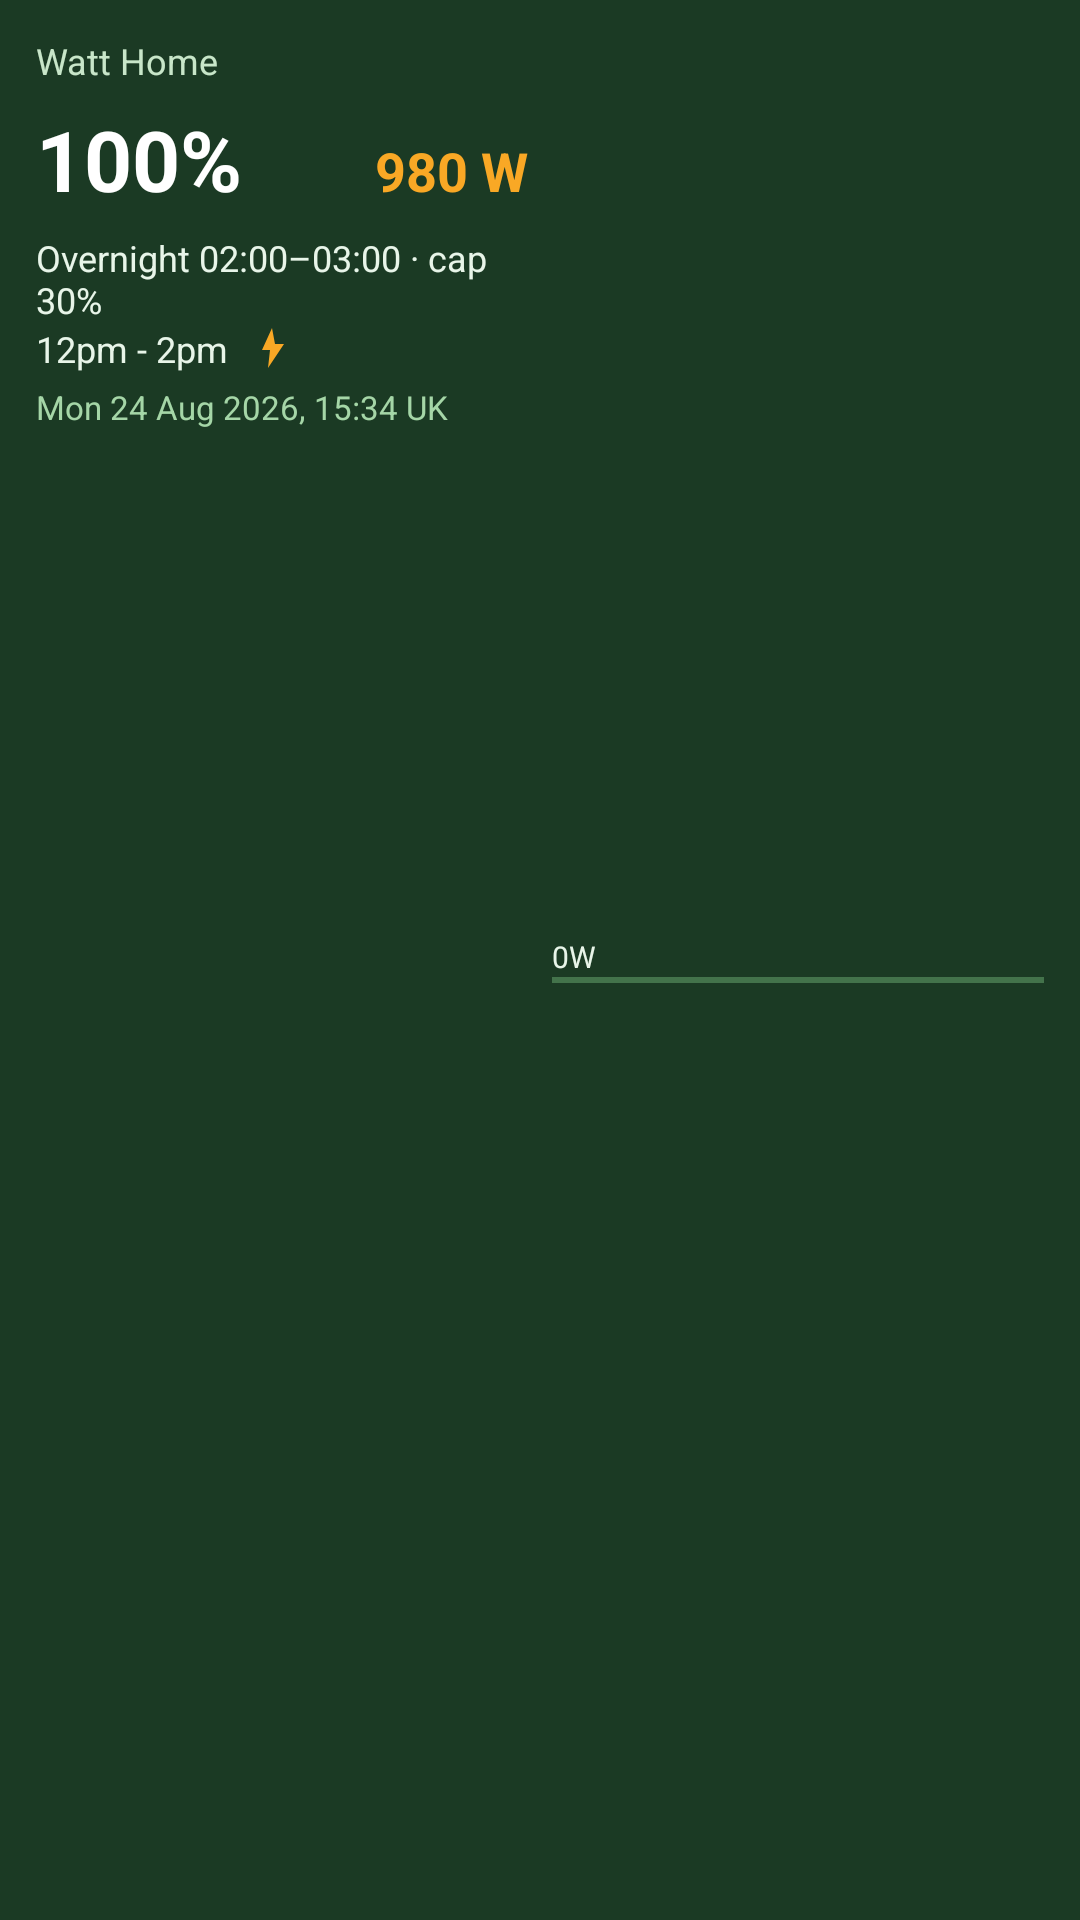

Icon click points for this 1080x1920 phone screenshot, format [x,y]:
power up badge: [273,348]
